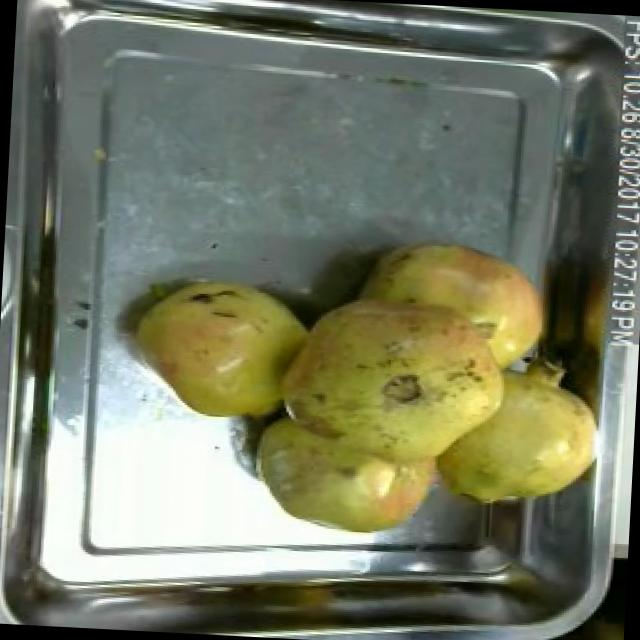fruit: (342, 226, 568, 467), (116, 268, 322, 434)
